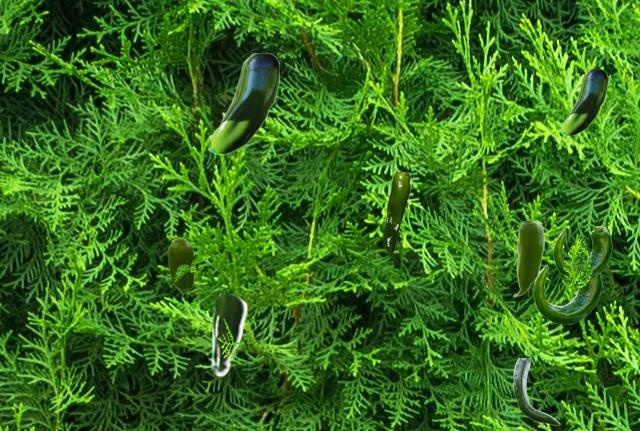green_chili: (207, 53, 278, 154), (533, 264, 601, 323), (208, 292, 247, 376), (553, 226, 611, 280), (560, 69, 606, 135), (513, 358, 559, 424), (512, 221, 543, 296), (383, 172, 409, 256), (168, 239, 193, 293)
